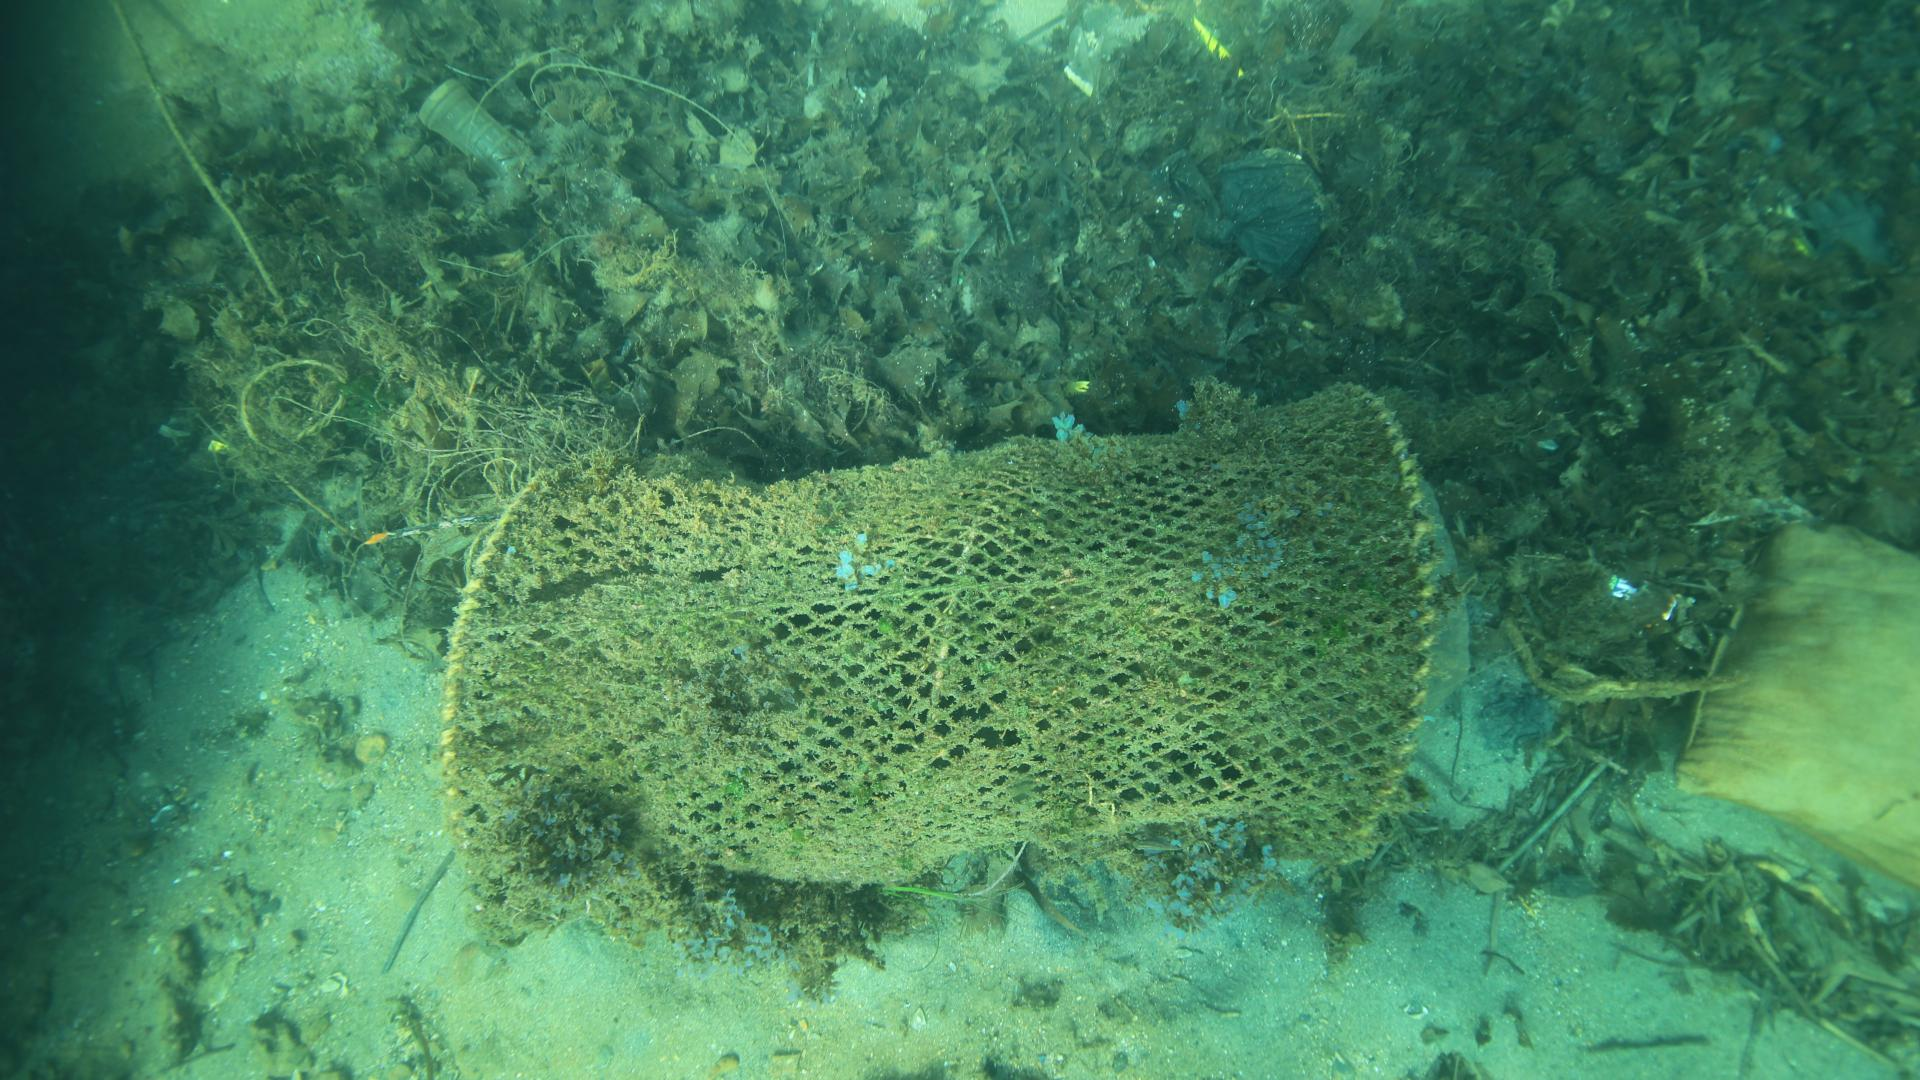spring fish trap: (438, 375, 1444, 887)
